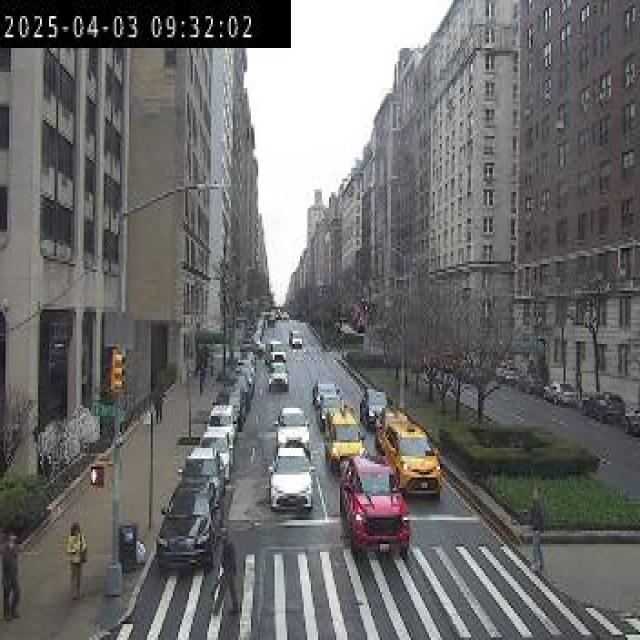open parking: (550, 384, 614, 421)
parkedCars: (187, 349, 261, 542), (501, 356, 640, 447)
